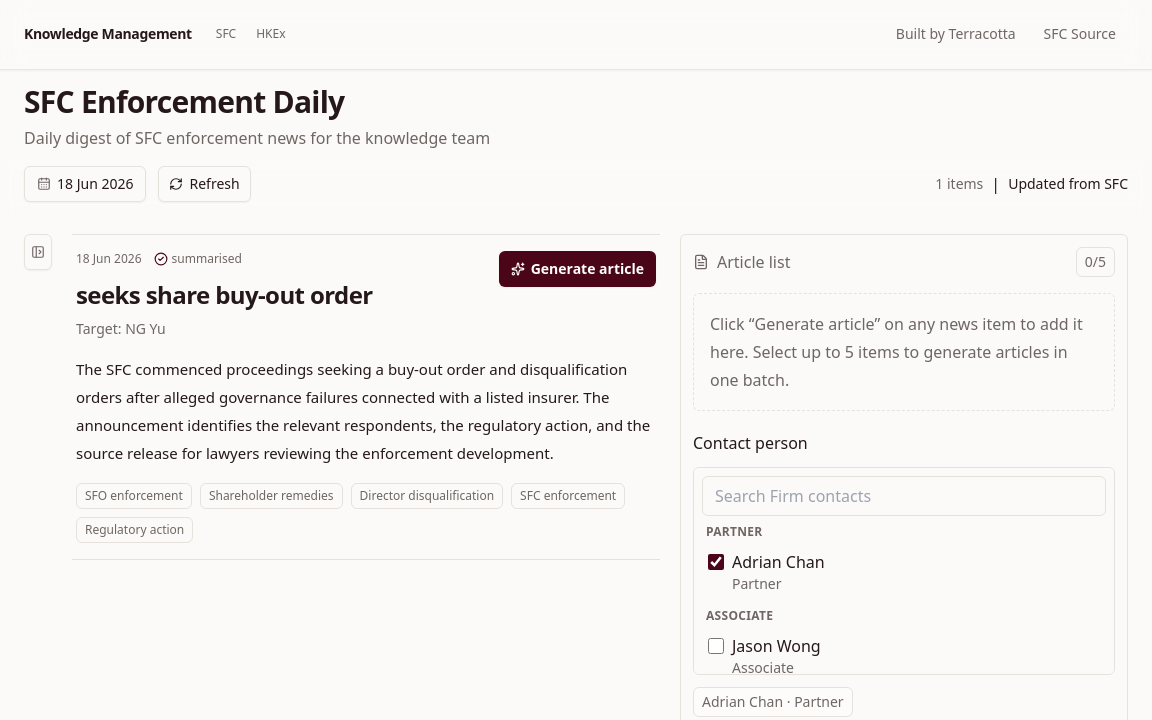
AlertsWorkspace › shows live and durable refresh status
Click the button "Refresh". click: point(205, 184)
box: [158, 166, 251, 202]
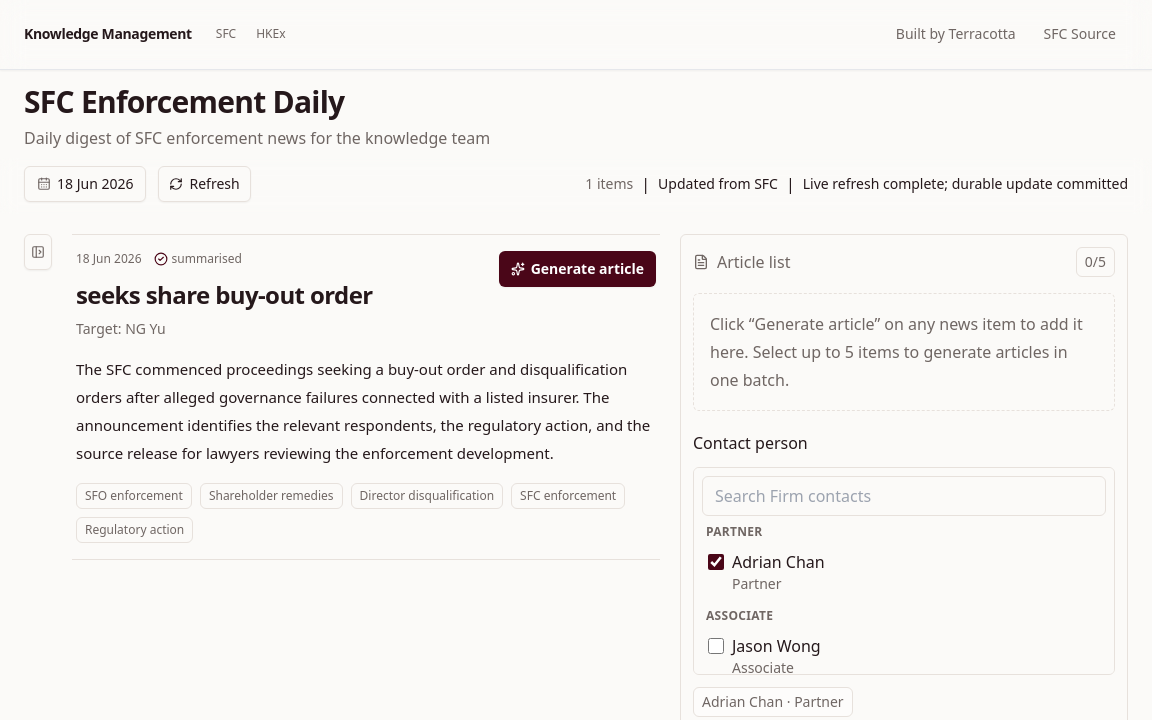
Expected: the text "Live refresh complete; durable update committed" is shown, [803, 174, 1128, 194]
